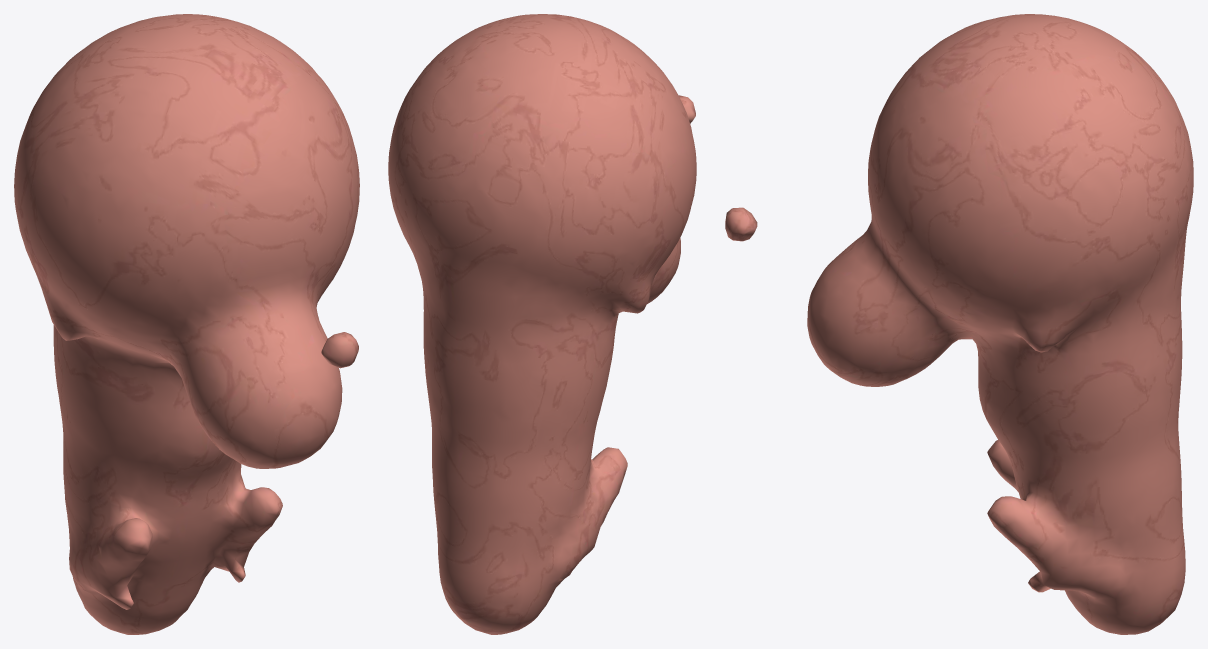
3 views of the same model, side by side, from view 1: azimuth 30°, elevation 25°; view 2: azimuth 150°, elevation 25°; view 3: azimuth 270°, elevation 25° (orthographic). The views are drawn at different scales.
Visible parts, largest first — view 1: Baby; view 2: Baby; view 3: Baby.
Part boxes in pixels (x1=…): Baby: x1=14, y1=14, x2=359, y2=634; Baby: x1=388, y1=14, x2=696, y2=634; Baby: x1=725, y1=14, x2=1193, y2=634.
Size of the model in its own units: 0.00748 by 0.0152 by 0.0107.
Materials: 1 (1 with a texture image).
